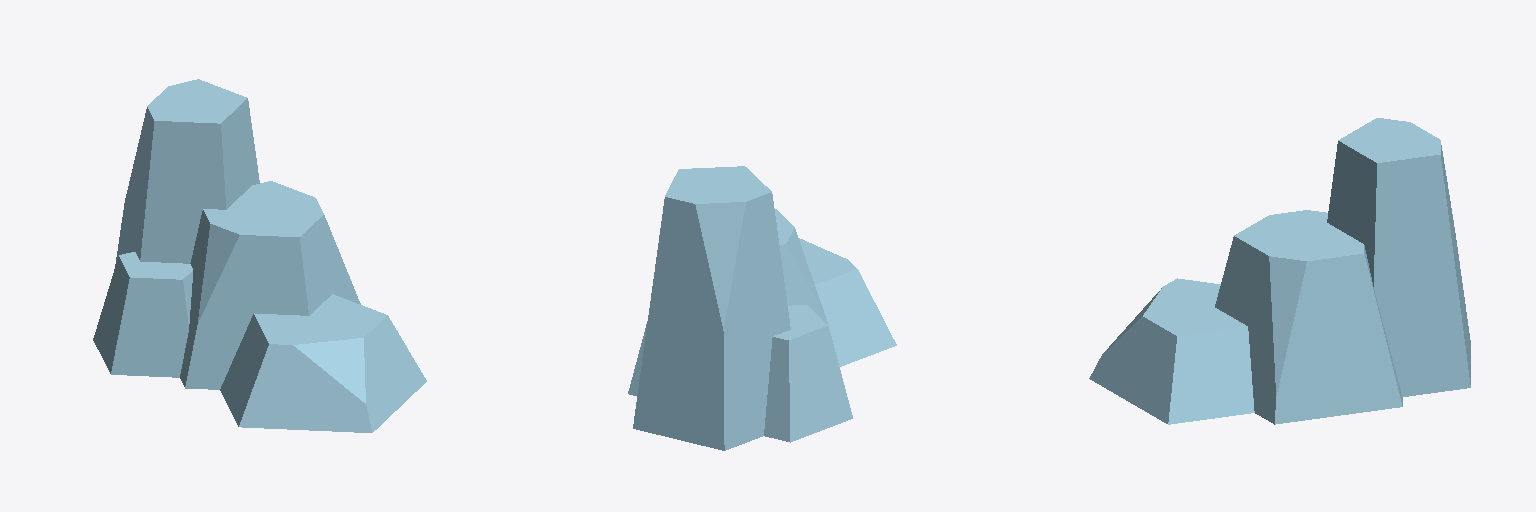
File: rockWide.obj
The picture shows the model from 3 angles: view 1: azimuth 30°, elevation 25°; view 2: azimuth 150°, elevation 25°; view 3: azimuth 270°, elevation 25°; orthographic projection.
Parts seen in each view (by area): view 1: rockWide; view 2: rockWide; view 3: rockWide.
Part boxes in pixels (x1,y1,x2,y2): rockWide: (93,79,426,432); rockWide: (628,166,896,450); rockWide: (1089,118,1470,424).
Size of the model in its own units: 1.09 by 1.02 by 1.57.